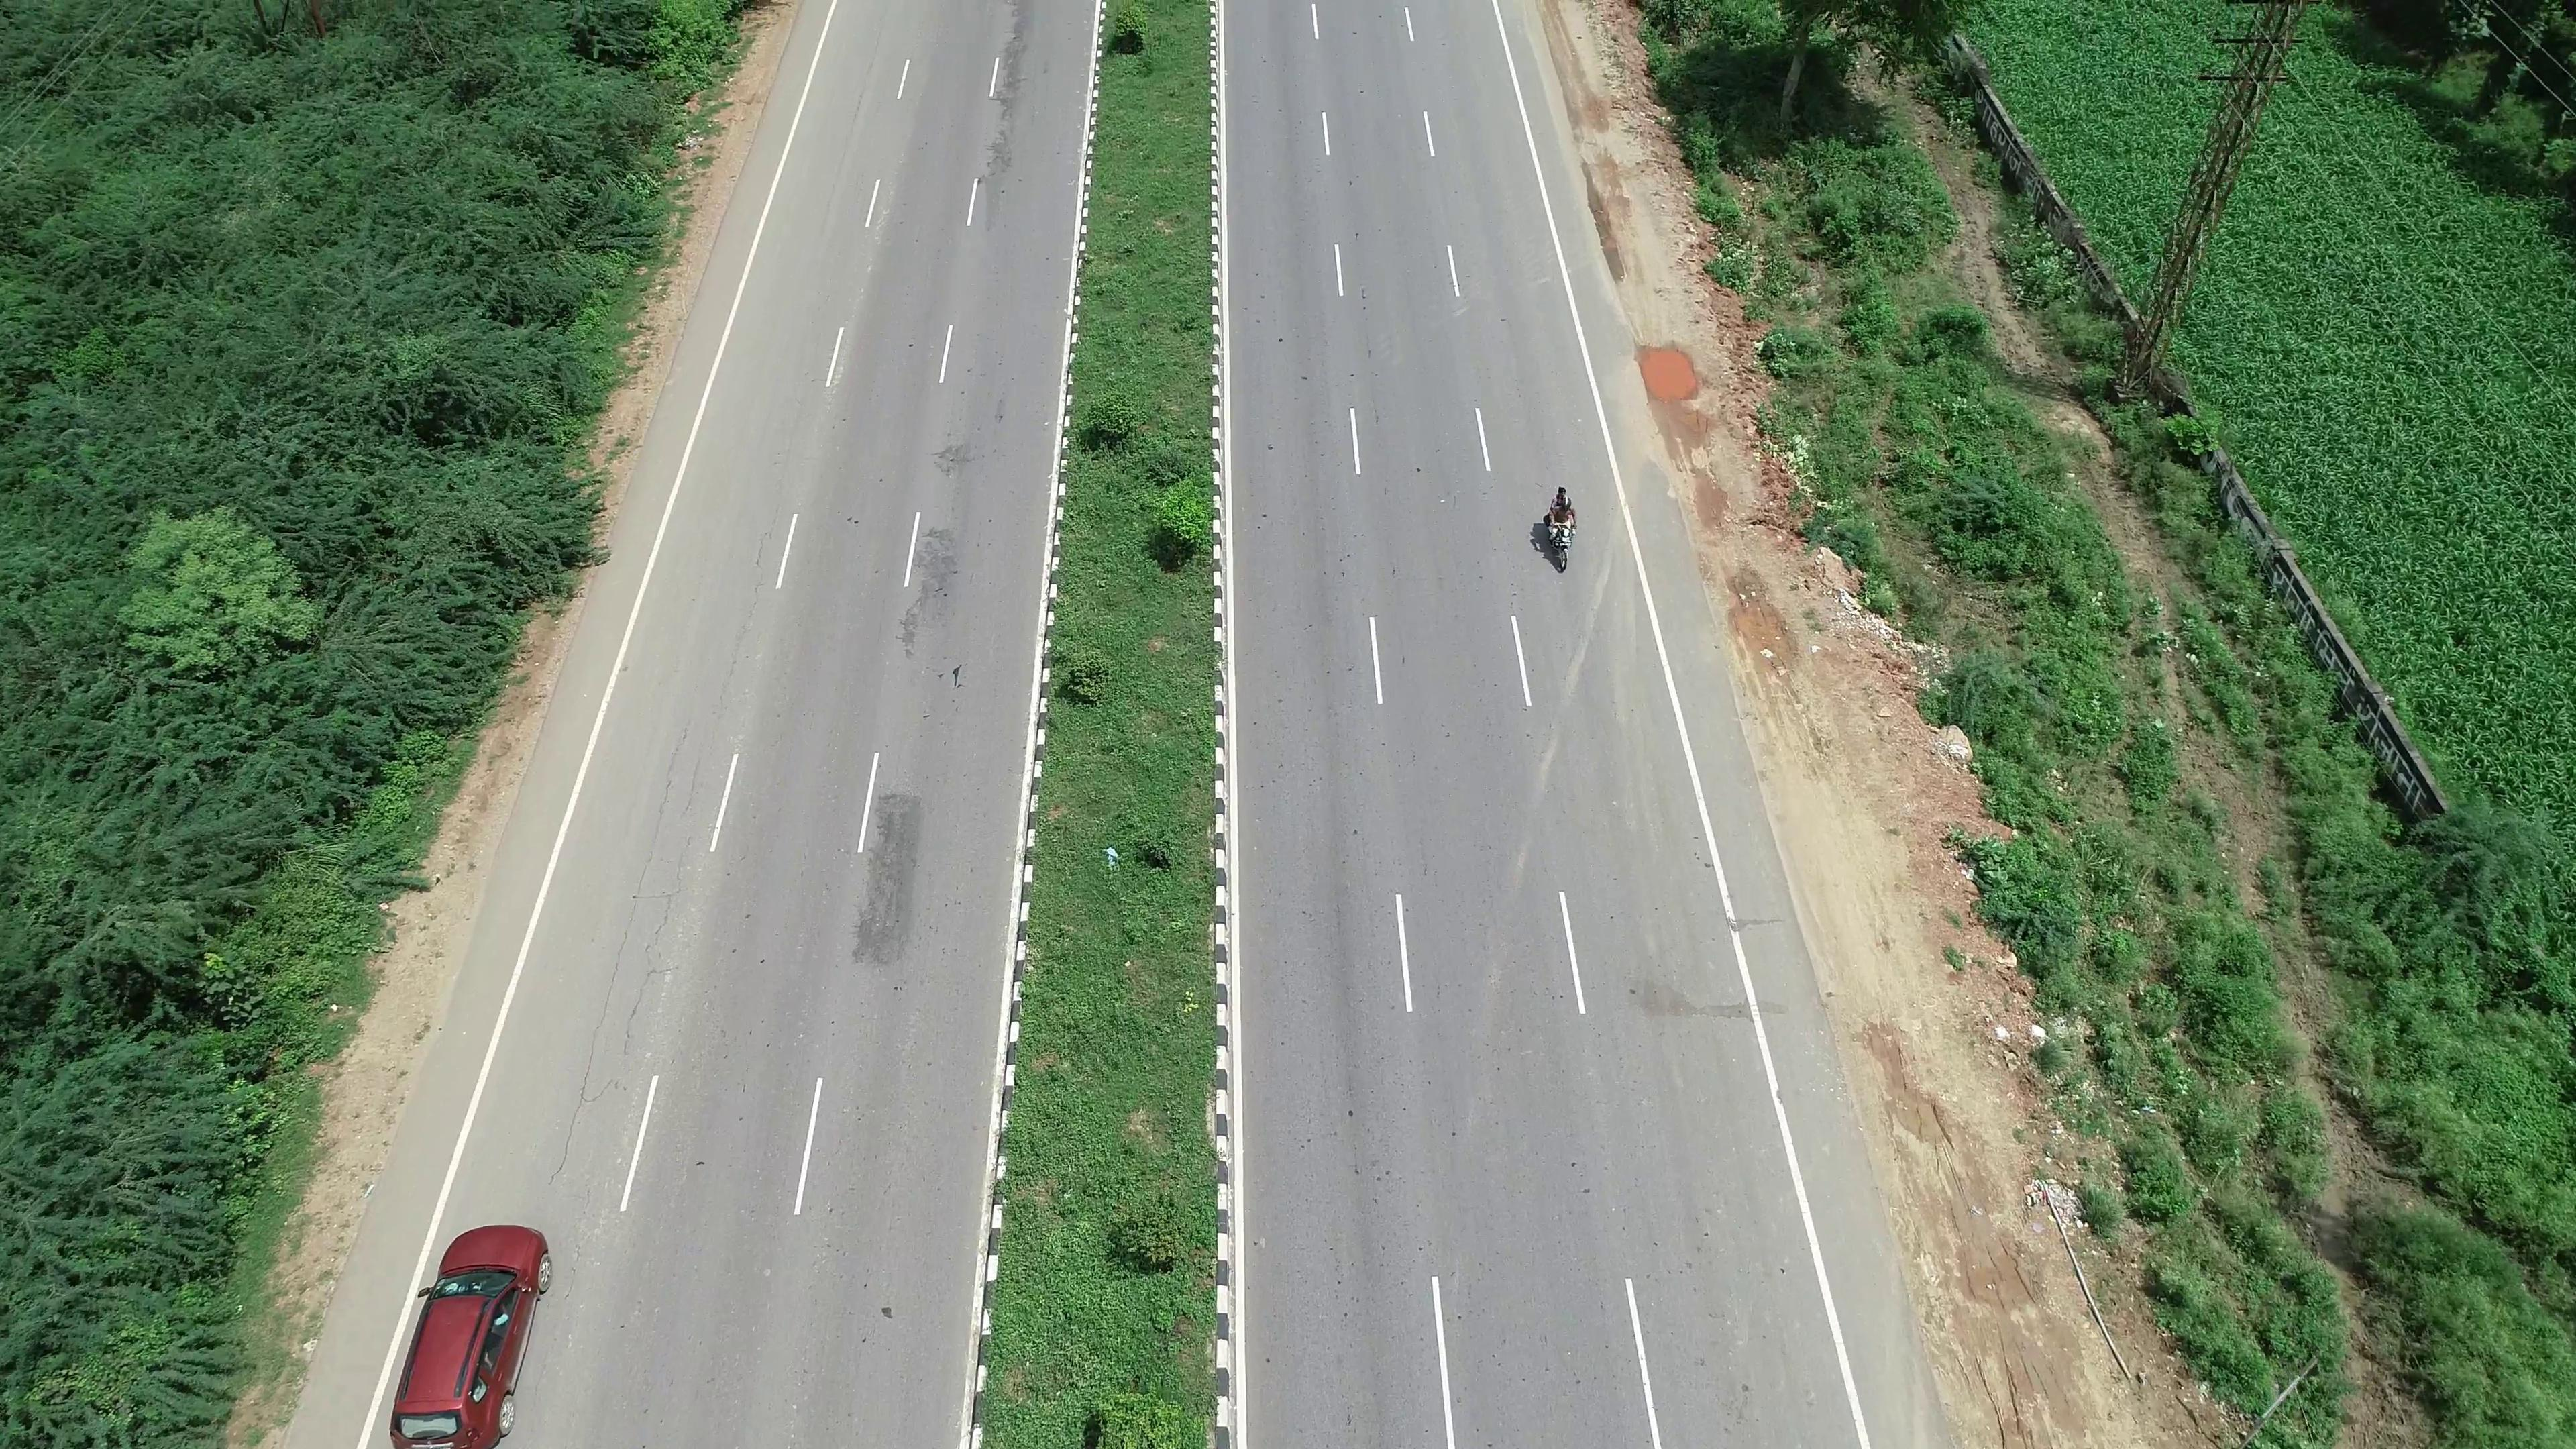Ravelling: (552, 888, 646, 1162), (727, 520, 780, 669), (649, 718, 704, 858)
